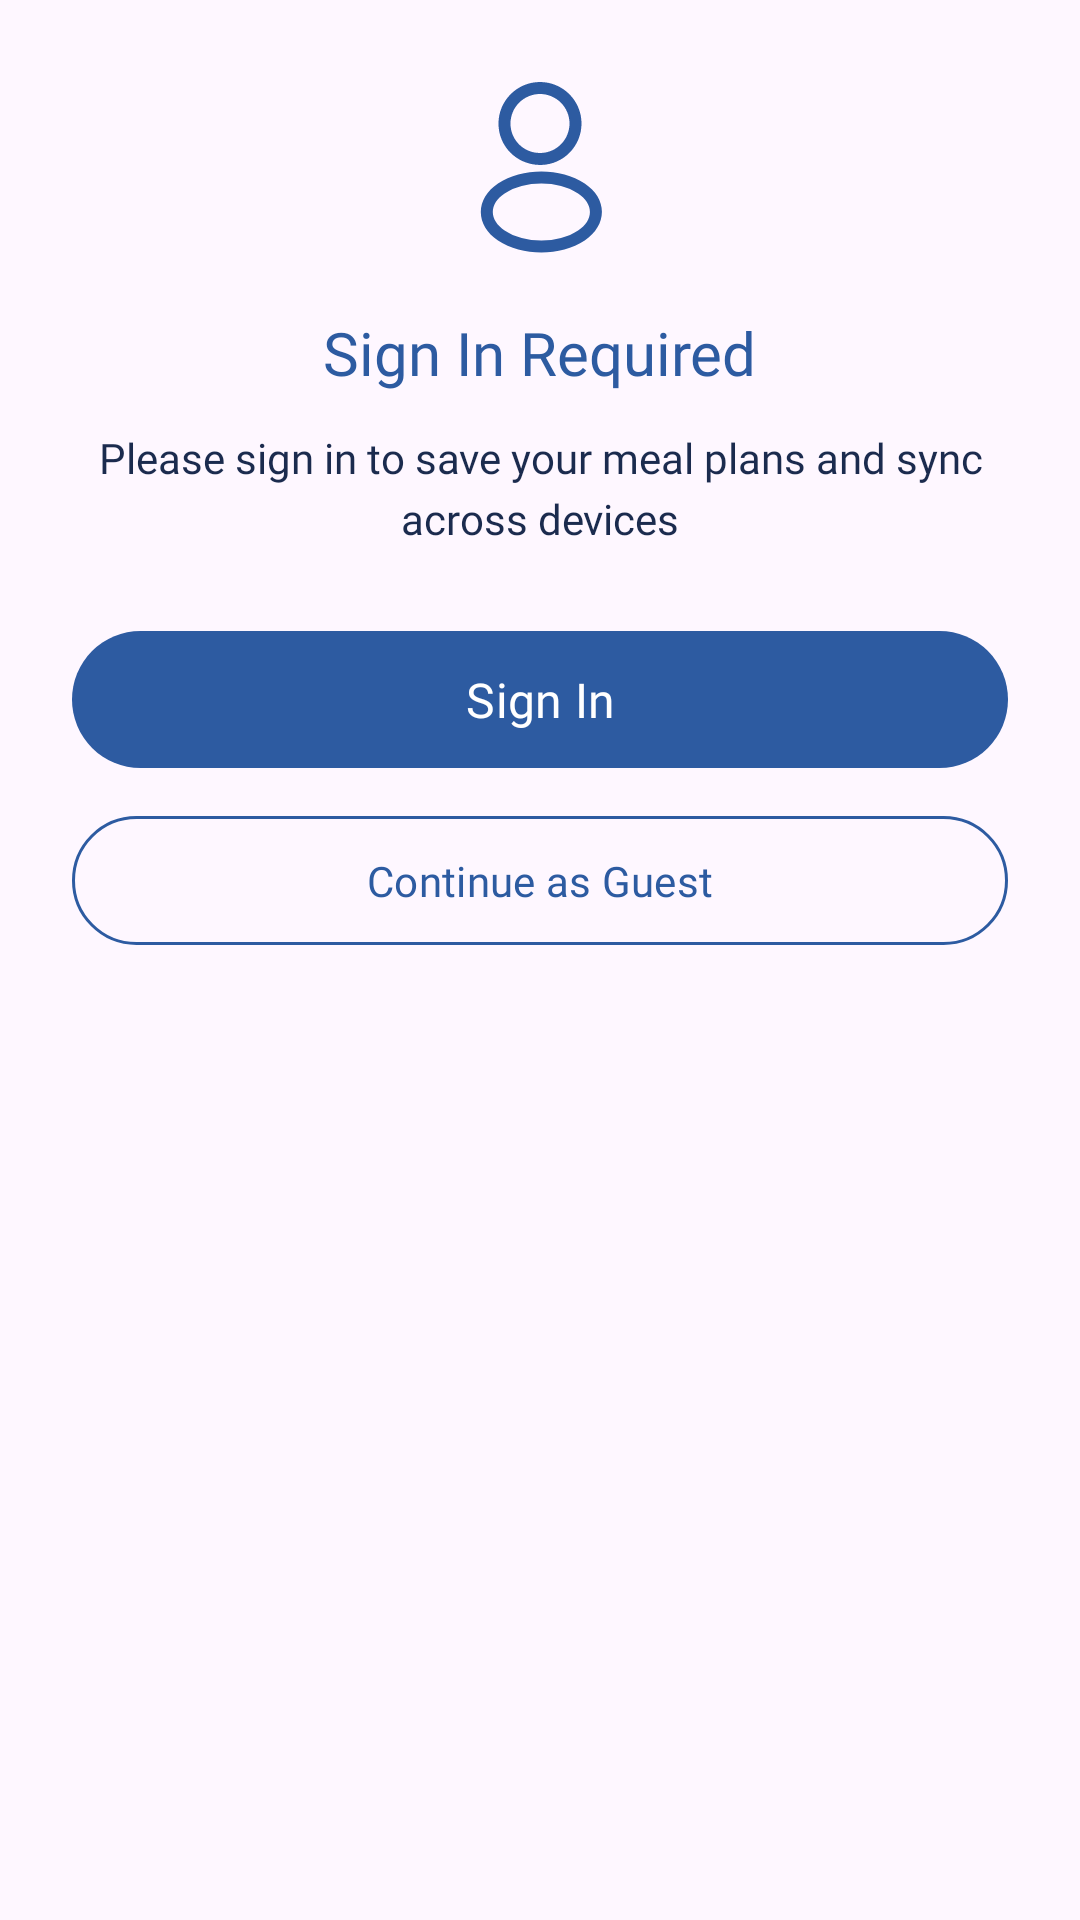

Where icons sit on this 1080×1920 app screen, as [x1=x1, y1=y1, x2=x2, y2=y2]:
profile: [x1=480, y1=82, x2=602, y2=253]
